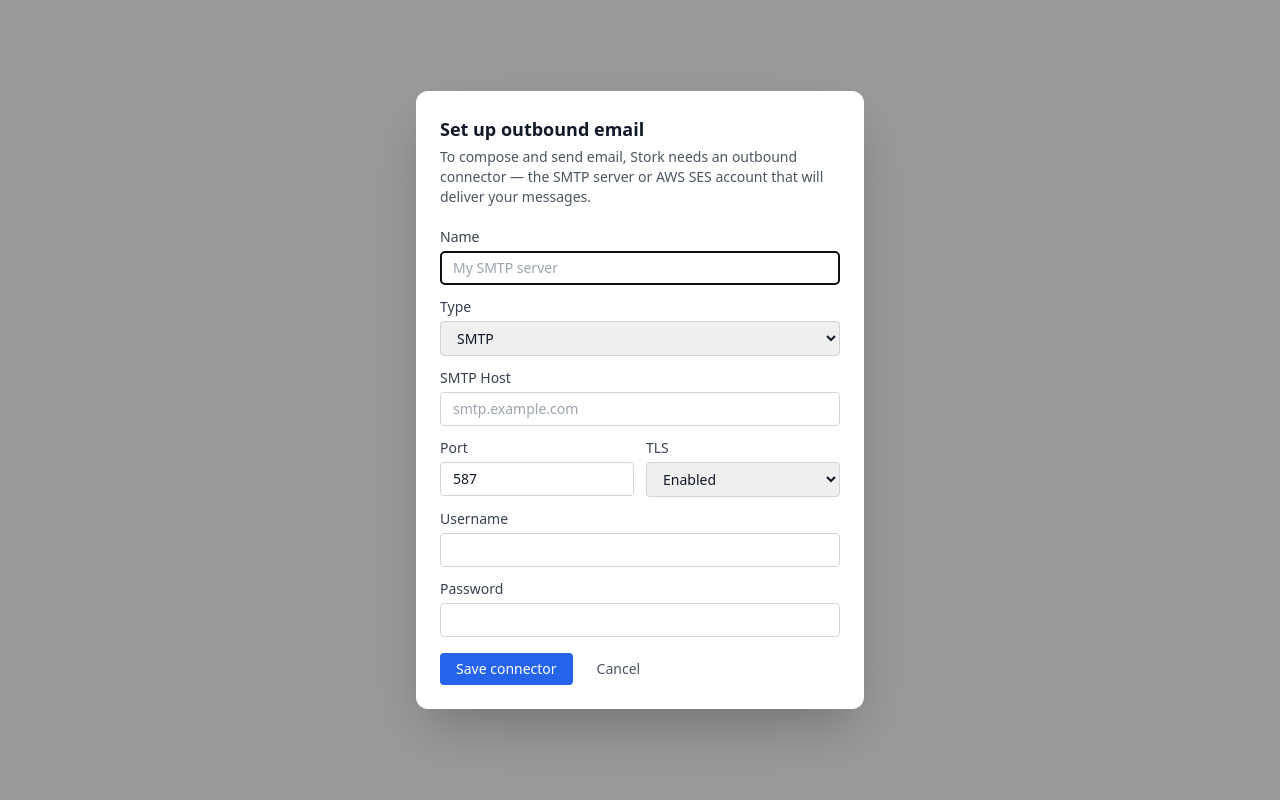
OutboundConnectorSetupModal › switches to SES fields when type is changed
Select "AWS SES" in the dropdown labelled "Type" at (640, 338), box [440,321,840,356]
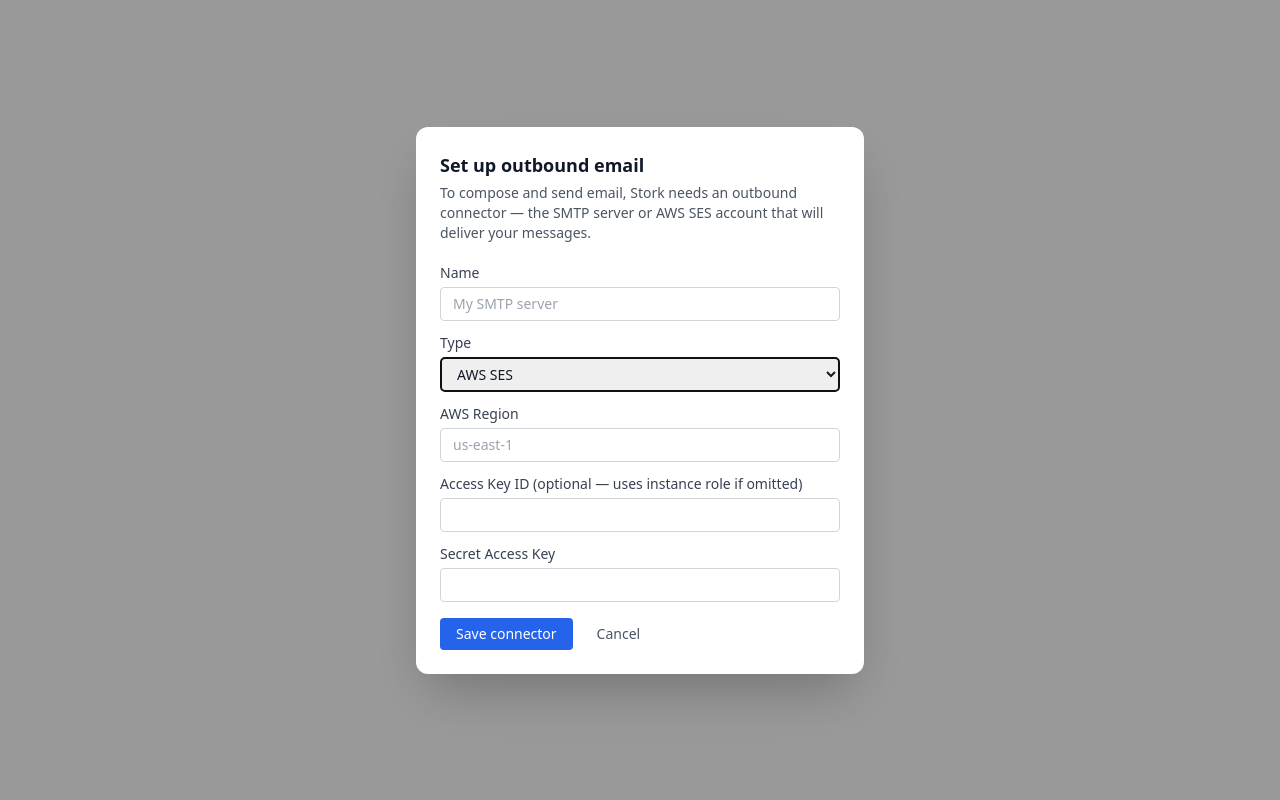
Expected: the field labelled "AWS Region" is shown, [440,428,840,462]
Expected: the label labelled "SMTP Host" is gone
